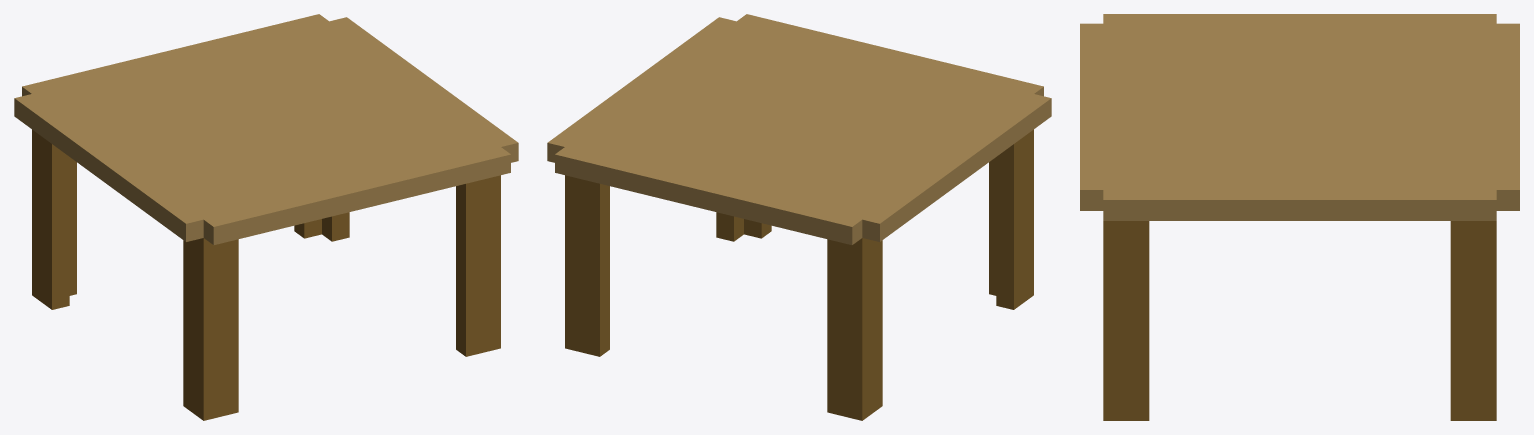
Rendered from Table.obj.
The picture shows the model from 3 angles, left to right: view 1: azimuth 30°, elevation 25°; view 2: azimuth 150°, elevation 25°; view 3: azimuth 270°, elevation 25°; orthographic projection. The views are drawn at different scales.
Bounding box in the file's own units: 1.9 × 1.1 × 1.9.
Materials: 1 (1 with a texture image).
